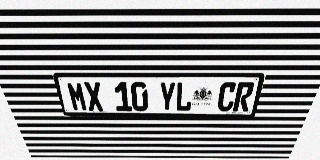0: (130, 82, 148, 111)
1: (113, 82, 132, 111)
C: (216, 82, 238, 111)
L: (175, 82, 193, 111)
M: (66, 82, 88, 111)
R: (232, 82, 255, 111)
X: (83, 82, 104, 111)
Y: (159, 82, 176, 111)
